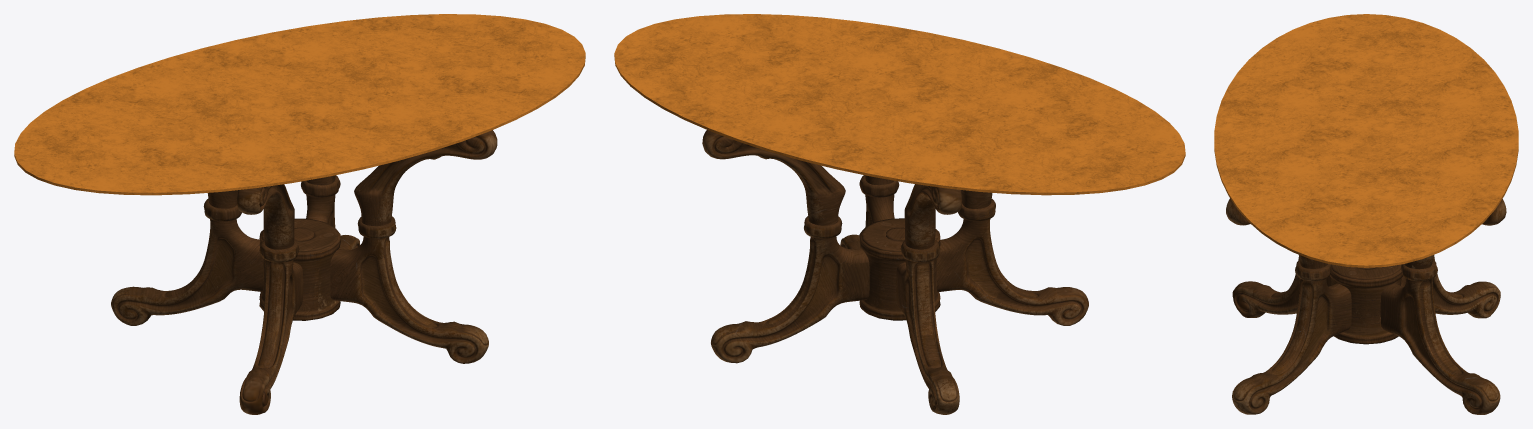
Rendered from Wooden_Round_Table.glb.
3 renders of one model, left to right at view 1: azimuth 30°, elevation 25°; view 2: azimuth 150°, elevation 25°; view 3: azimuth 270°, elevation 25°, orthographic. The views are drawn at different scales.
Visible parts, largest first — view 1: Cylinder, Remesh; view 2: Cylinder, Remesh; view 3: Cylinder, Remesh.
Part boxes in pixels (box(x1,y1,x2,y2)): Cylinder: box(14, 14, 585, 195); Remesh: box(111, 130, 497, 414); Cylinder: box(614, 14, 1185, 195); Remesh: box(702, 130, 1088, 414); Cylinder: box(1214, 14, 1518, 267); Remesh: box(1226, 198, 1506, 414).
Bounding box in the file's own units: 687 × 286 × 351.
Materials: 2 (2 with a texture image).
